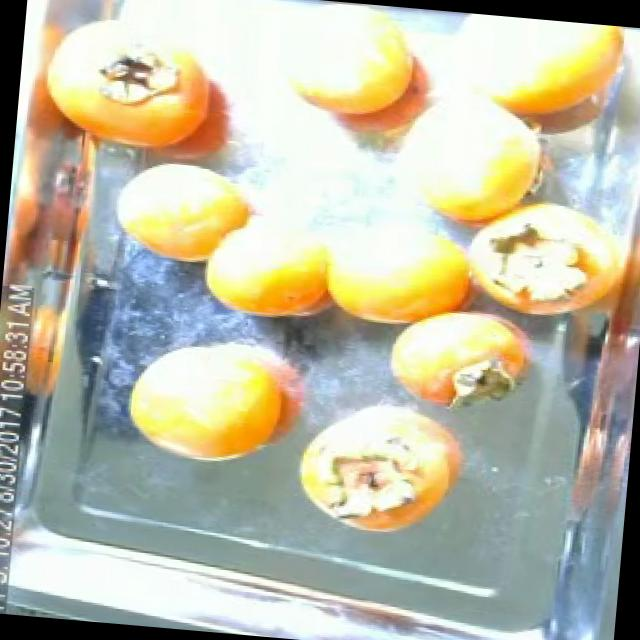Fruit: (106, 310, 319, 480), (86, 140, 272, 281), (370, 298, 550, 426)
